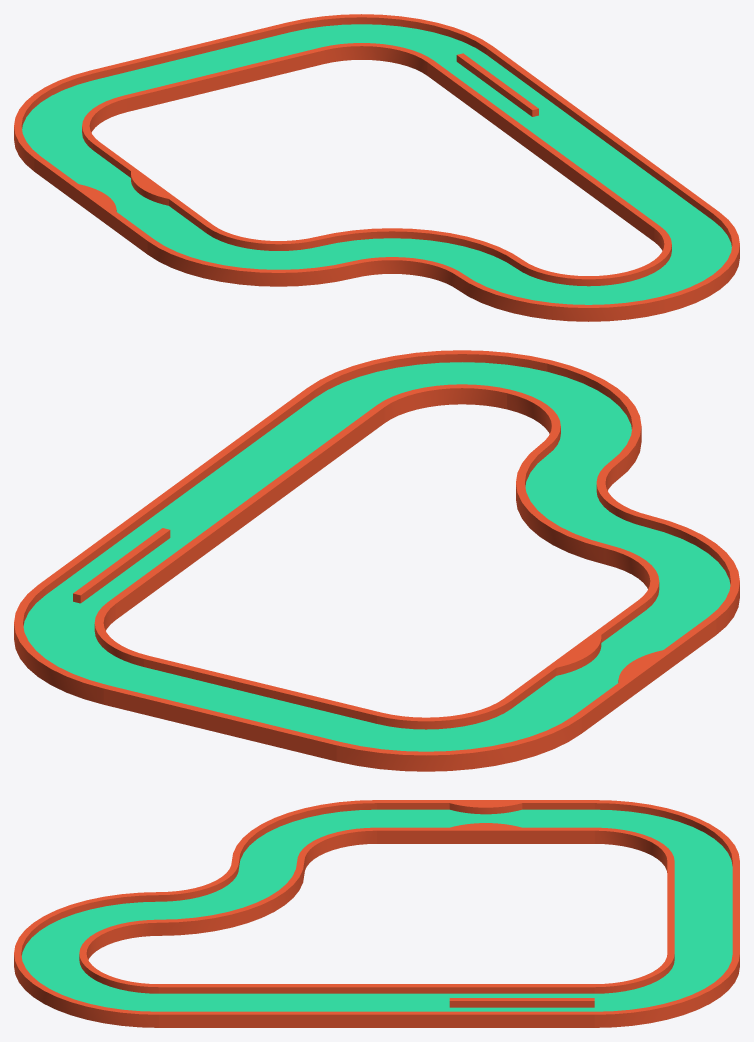
Rendered from track.fbx.
3 renders of one model, top to bottom at view 1: azimuth 30°, elevation 25°; view 2: azimuth 150°, elevation 25°; view 3: azimuth 270°, elevation 25°, orthographic. The views are drawn at different scales.
Parts seen in each view (by area): view 1: bend_large_17, bend_large_2, bend_large_16, bend_large_15, bend_large_0, bend_large_23, straight_25, straight_26, straight_27, straight_mid_13, straight_7, straight_narrow_round_19 (+6 smaller); view 2: bend_large_23, bend_large_0, bend_large_16, bend_large_15, bend_large_2, bend_large_17, straight_27, straight_26, straight_25, straight_mid_14, straight_narrow_round_19, straight_mid_13 (+6 smaller); view 3: bend_large_0, bend_large_15, bend_large_16, bend_large_23, bend_large_2, bend_large_17, straight_10, straight_mid_13, straight_narrow_round_19, straight_7, straight_11, straight_12 (+6 smaller).
Boxes of the visible parts, box(x1,y1,x2,y2) form: bend_large_17: box(147, 225, 354, 286); bend_large_2: box(457, 260, 664, 321); bend_large_16: box(317, 228, 522, 289); bend_large_15: box(286, 14, 492, 75); bend_large_0: box(627, 212, 739, 312); bend_large_23: box(14, 70, 127, 171); straight_25: box(90, 55, 192, 111); straight_26: box(155, 38, 258, 95); straight_27: box(221, 23, 323, 79); straight_mid_13: box(465, 74, 567, 130); straight_7: box(616, 184, 719, 241); straight_narrow_round_19: box(72, 169, 174, 226); bend_large_23: box(336, 698, 581, 771); bend_large_0: box(307, 350, 551, 422); bend_large_16: box(516, 445, 649, 564); bend_large_15: box(14, 585, 147, 704); bend_large_2: box(507, 360, 641, 479); bend_large_17: box(605, 515, 739, 634); straight_27: box(103, 655, 225, 723); straight_26: box(181, 674, 303, 742); straight_25: box(259, 693, 380, 761); straight_mid_14: box(38, 552, 160, 619); straight_narrow_round_19: box(549, 633, 670, 700); straight_mid_13: box(83, 519, 205, 586); bend_large_0: box(14, 953, 159, 1027); bend_large_15: box(594, 953, 739, 1027); bend_large_16: box(159, 861, 304, 935); bend_large_23: box(594, 800, 739, 872); bend_large_2: box(14, 892, 159, 959); bend_large_17: box(232, 800, 376, 873); straight_10: box(231, 984, 304, 1027); straight_mid_13: box(449, 984, 522, 1027); straight_narrow_round_19: box(449, 800, 522, 843); straight_7: box(159, 984, 231, 1027); straight_11: box(304, 984, 376, 1027); straight_12: box(377, 984, 449, 1027).
Size of the model in its own units: 70 by 2 by 100.
